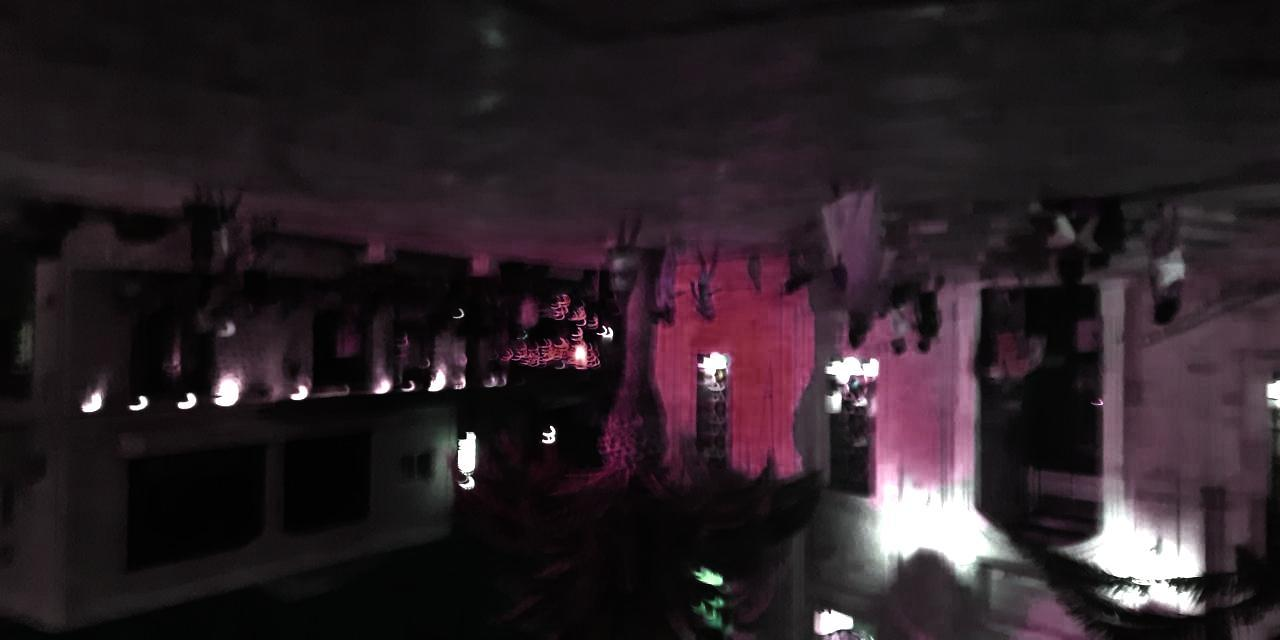Agios Titos: (648, 232, 1280, 639)
